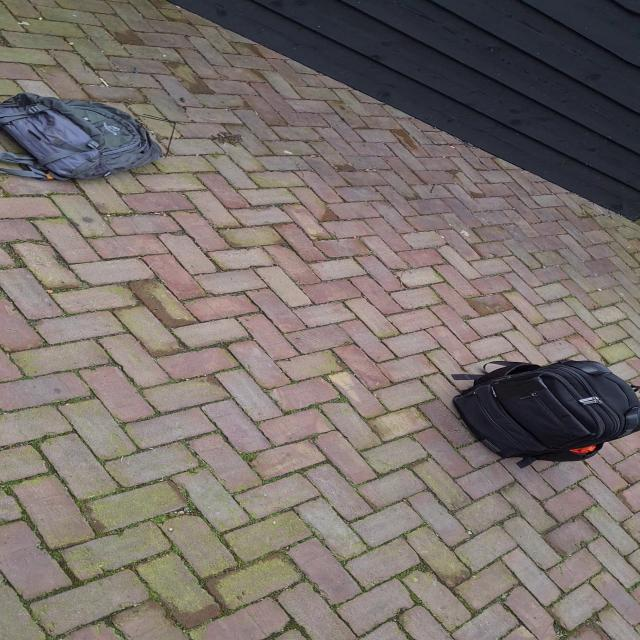backpack: (442, 355, 640, 461), (0, 89, 171, 182)
